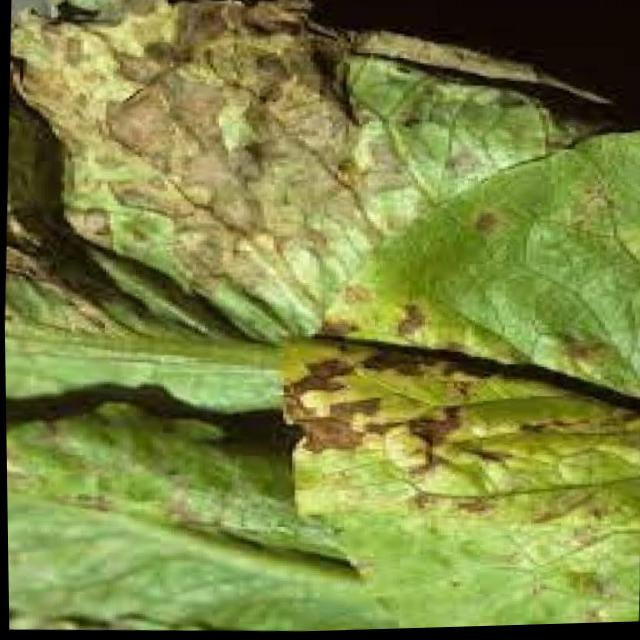Bad: (10, 0, 588, 339), (284, 337, 640, 628), (388, 147, 640, 394)
